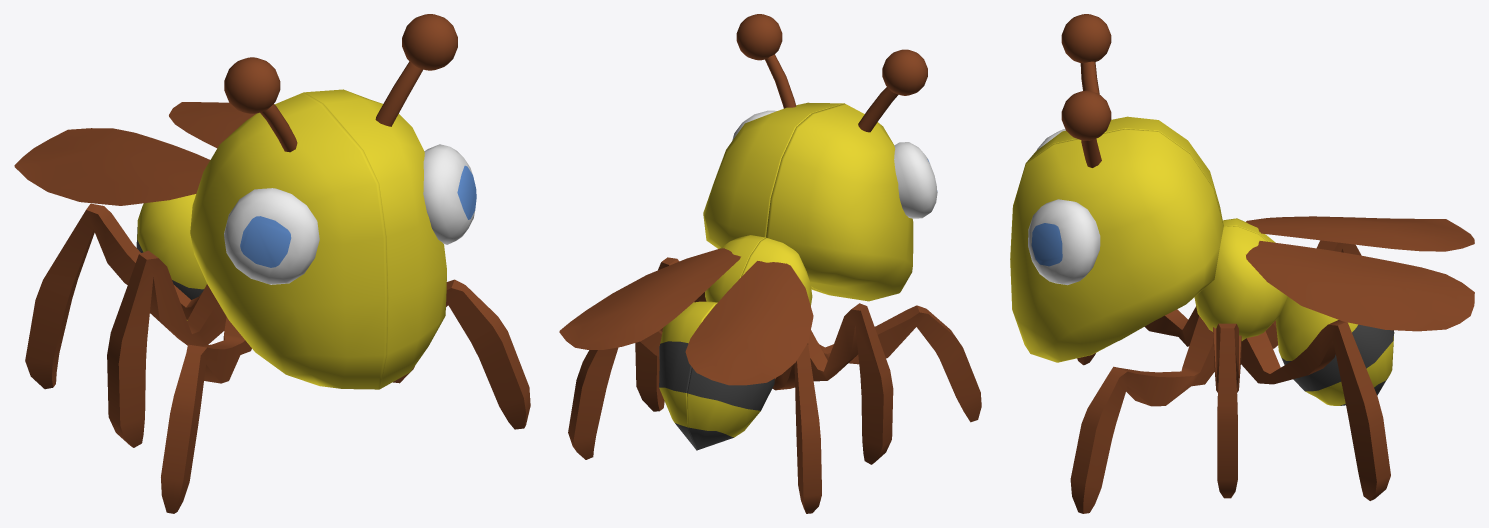
File: SM_Bee_01a.fbx
3 views of the same model, side by side, from view 1: azimuth 30°, elevation 25°; view 2: azimuth 150°, elevation 25°; view 3: azimuth 270°, elevation 25° (orthographic). The views are drawn at different scales.
Visible parts, largest first — view 1: Bee_02, Bee_01; view 2: Bee_02, Bee_01; view 3: Bee_01, Bee_02.
Boxes of the visible parts, left/top/right/bottom form: Bee_02: left=14, top=57, right=387, bottom=513; Bee_01: left=169, top=14, right=530, bottom=429; Bee_02: left=685, top=49, right=981, bottom=513; Bee_01: left=559, top=14, right=843, bottom=459; Bee_01: left=1010, top=90, right=1474, bottom=513; Bee_02: left=1026, top=14, right=1474, bottom=365.
Size of the model in its own units: 36.48 by 41.15 by 45.02.
